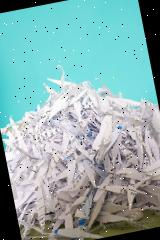paper: (0, 47, 160, 240)
